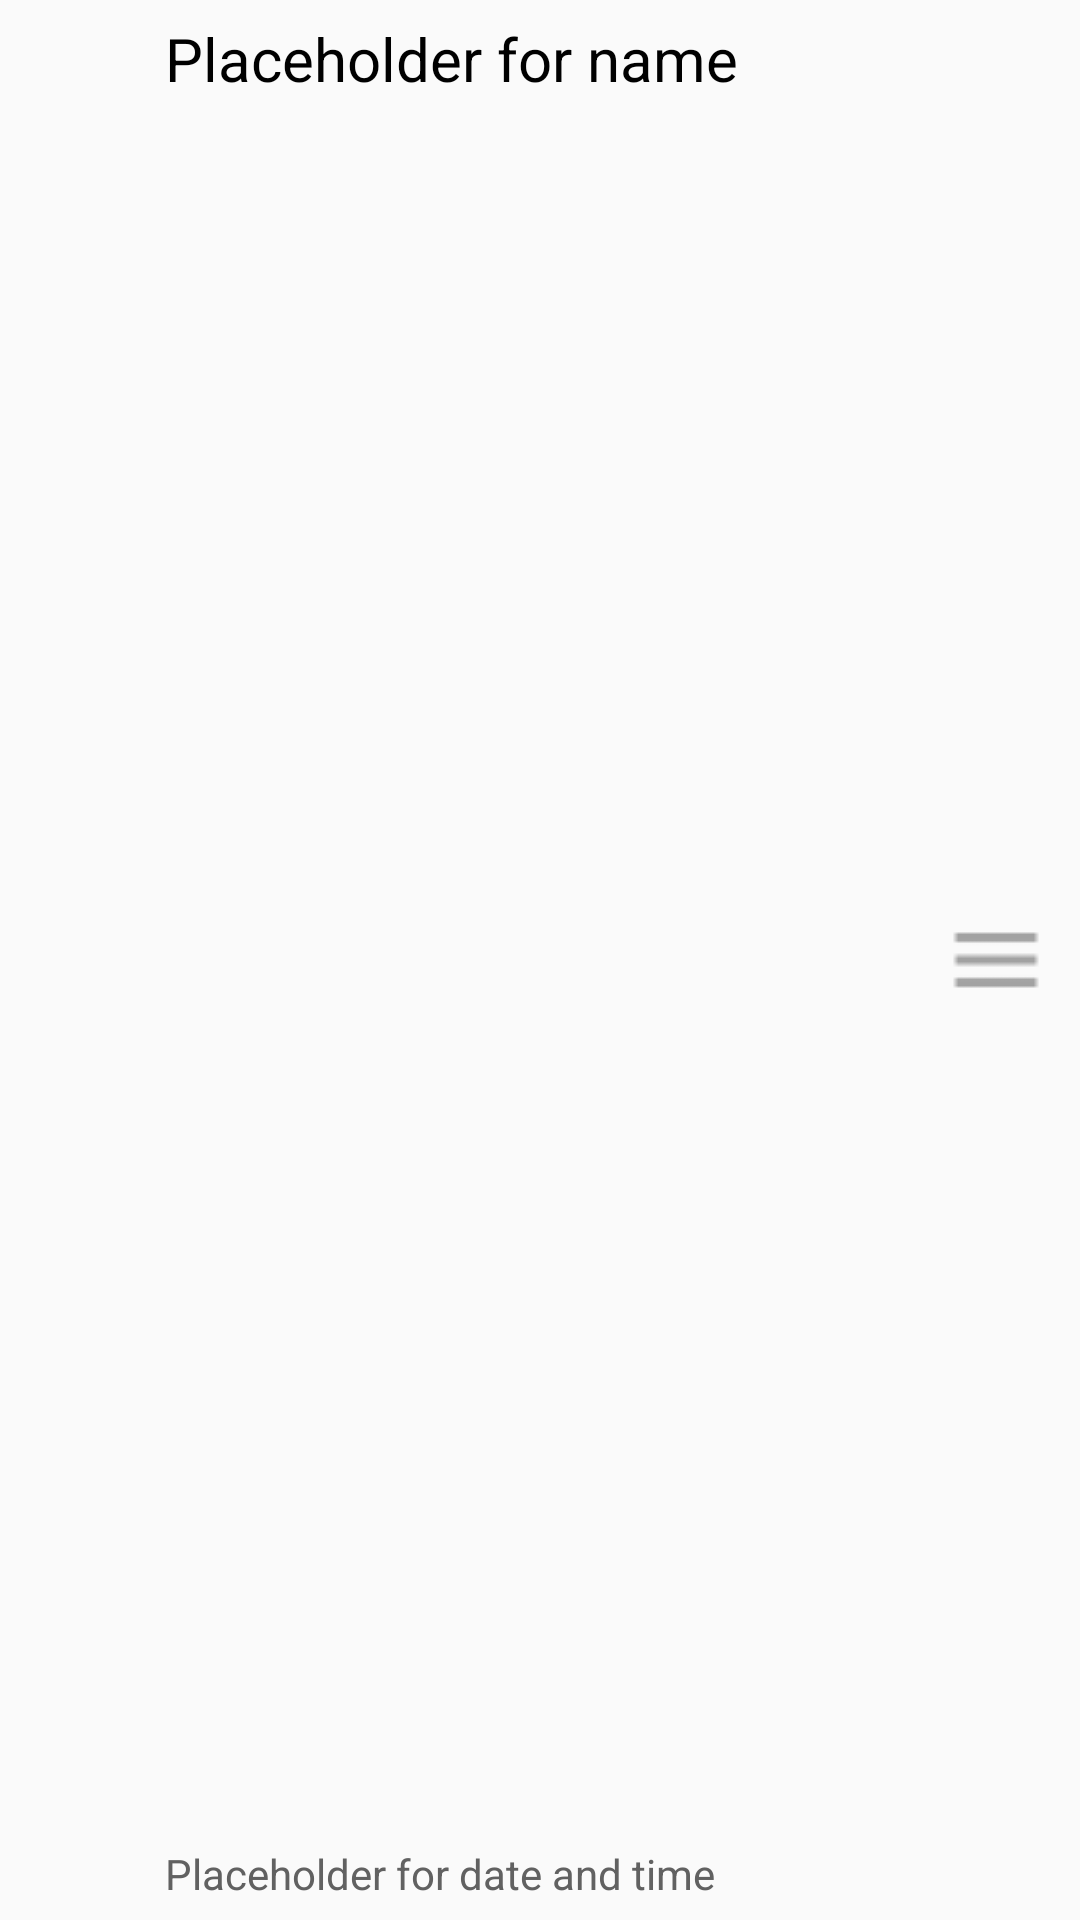

Icon click points for this 1080px×1920px phone screenshot, format (x=x, y=y):
menu: (x=996, y=960)
